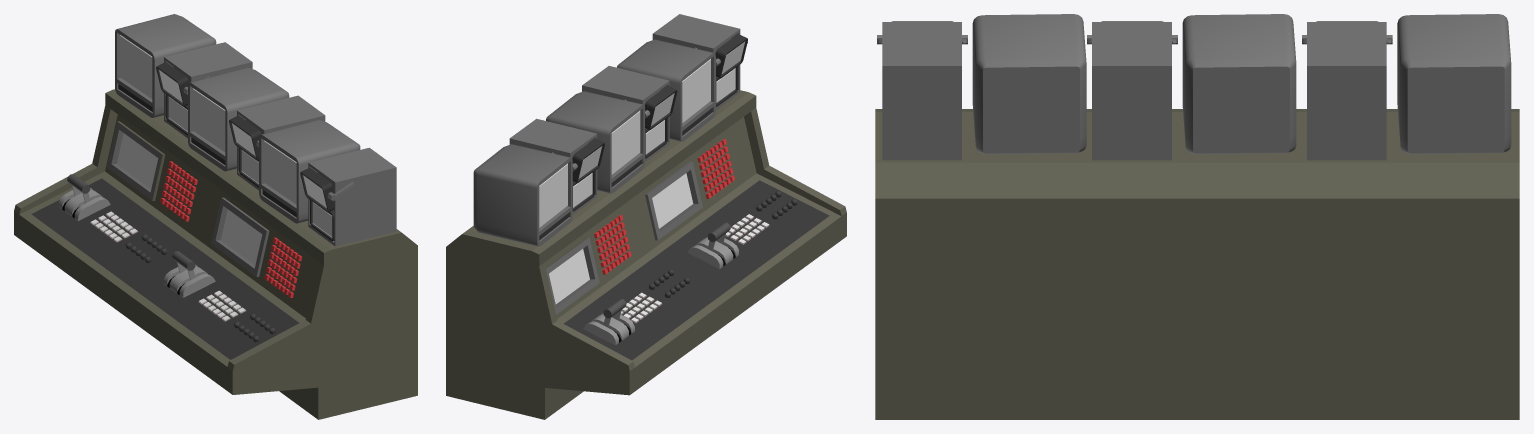
3 views of the same model, side by side, from view 1: azimuth 30°, elevation 25°; view 2: azimuth 150°, elevation 25°; view 3: azimuth 270°, elevation 25° (orthographic). The views are drawn at different scales.
Visible parts, largest first — view 1: Cube, Screen, Cylinder.003, Cube.007, Cube.001, Cube.003, Cylinder.001, Cylinder.002, Cylinder.004, Cylinder.007, Cube.013, Cube.014 (+7 smaller); view 2: Cube, Screen, Cube.001, Cube.003, Cube.007, Cylinder.001, Cylinder.002, Cylinder.003, Cylinder.004, Cylinder.007, Cube.014, Cube.013 (+6 smaller); view 3: Cube, Cube.003, Cube.001, Cube.007, Cylinder.001, Cylinder.002, Cylinder.003.
Part boxes in pixels (x1,y1,x2,y2): Cube: (14,89,417,419); Screen: (117,35,332,265); Cylinder.003: (300,147,396,246); Cube.007: (259,119,360,223); Cube.001: (115,14,216,117); Cube.003: (188,67,289,171); Cylinder.001: (156,42,252,138); Cylinder.002: (229,95,325,190); Cylinder.004: (163,251,215,297); Cylinder.007: (58,174,110,220); Cube.013: (160,161,197,221); Cube.014: (264,237,301,297); Cube: (446,90,846,419); Screen: (539,41,745,304); Cube.001: (473,144,572,246); Cube.003: (546,91,644,193); Cube.007: (617,39,715,141); Cylinder.001: (509,118,604,214); Cylinder.002: (582,66,677,161); Cylinder.003: (652,14,747,109); Cylinder.004: (687,222,738,268); Cylinder.007: (583,299,634,345); Cube.014: (697,139,734,198); Cube.013: (594,215,631,274); Cube: (875,109,1519,419); Cube.003: (1182,14,1296,154); Cube.001: (1397,14,1511,154); Cube.007: (972,14,1086,154); Cylinder.001: (1302,22,1392,160); Cylinder.002: (1087,22,1177,160); Cylinder.003: (877,22,967,160).
Size of the model in its own units: 388 by 466 by 793.
